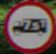Heavy Vehicles: (4, 5, 50, 46)
